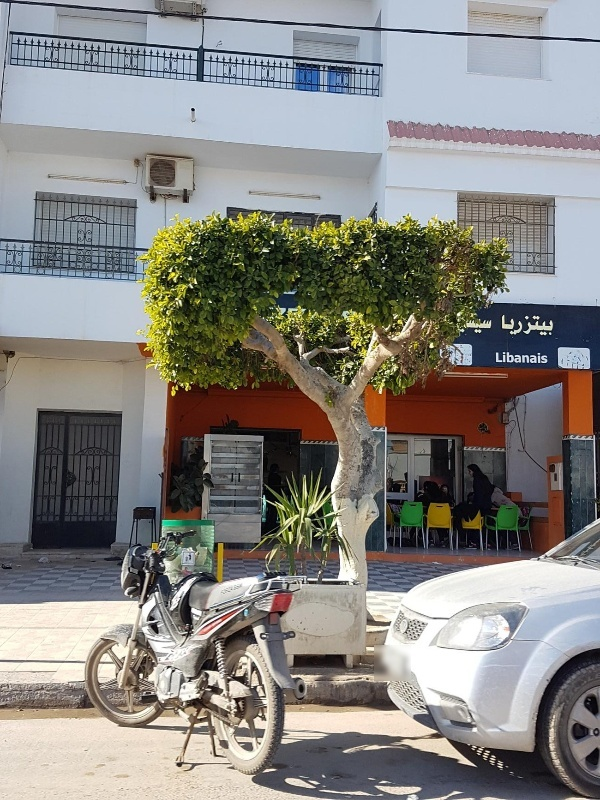text: (513, 314, 528, 337), (529, 314, 544, 337), (481, 315, 495, 335), (501, 314, 512, 337), (468, 315, 480, 335), (225, 583, 240, 596), (545, 314, 553, 337), (497, 352, 512, 364), (513, 352, 528, 364), (529, 352, 544, 364), (403, 621, 416, 630), (220, 583, 224, 596), (545, 352, 548, 364), (241, 583, 243, 596)
